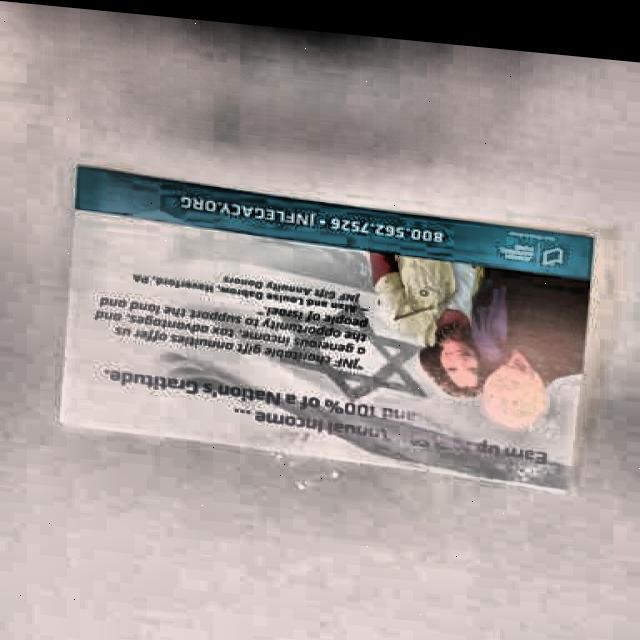paper: (55, 161, 599, 493)
